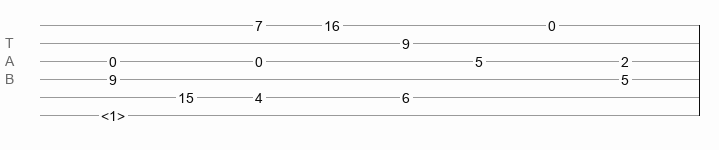0: (109, 54, 117, 64), (255, 54, 263, 64), (548, 18, 556, 28)
15: (178, 90, 194, 100)
16: (324, 18, 340, 28)
2: (621, 54, 629, 64)
4: (255, 90, 263, 100)
5: (475, 54, 483, 64), (621, 72, 629, 82)
6: (402, 90, 410, 100)
7: (255, 18, 263, 28)
9: (109, 72, 117, 82), (402, 36, 410, 46)
harmonic: (101, 108, 125, 118)
